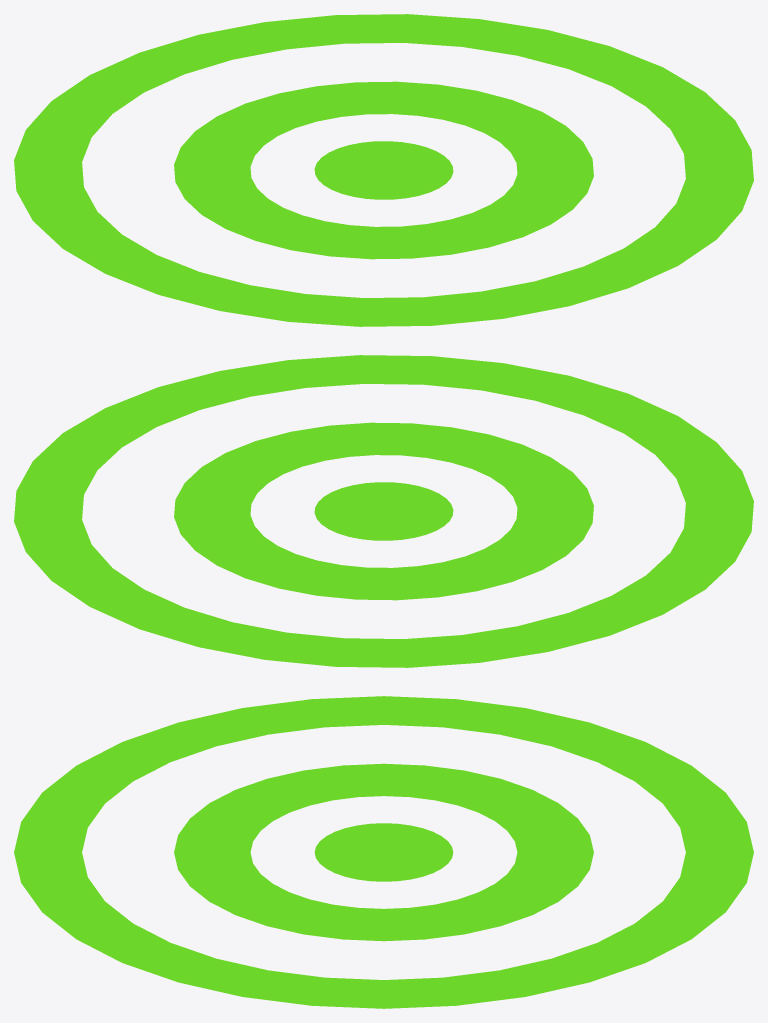
File: maptarget.fbx
3 views of the same model, one above another, from view 1: azimuth 30°, elevation 25°; view 2: azimuth 150°, elevation 25°; view 3: azimuth 270°, elevation 25° (orthographic).
Parts seen in each view (by area): view 1: Target; view 2: Target; view 3: Target.
Part boxes in pixels (x1=…): Target: x1=14, y1=14, x2=753, y2=326; Target: x1=14, y1=355, x2=753, y2=667; Target: x1=14, y1=696, x2=753, y2=1008.
Size of the model in its own units: 195 by 3.18e-05 by 195.
